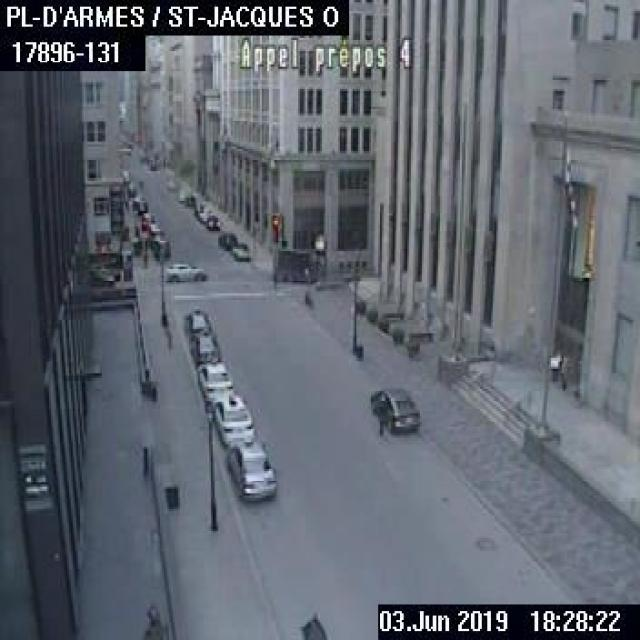pedestrian: (373, 393, 387, 438), (558, 354, 568, 389), (548, 350, 559, 380)
vehicle: (226, 438, 276, 500), (367, 385, 418, 431), (211, 392, 254, 445), (272, 247, 320, 280), (197, 356, 230, 400), (189, 328, 219, 362), (184, 306, 210, 337), (164, 260, 206, 279), (216, 228, 236, 250), (232, 241, 249, 260), (153, 237, 170, 256), (131, 193, 145, 213), (148, 224, 162, 244), (141, 210, 154, 230), (205, 213, 219, 230)
